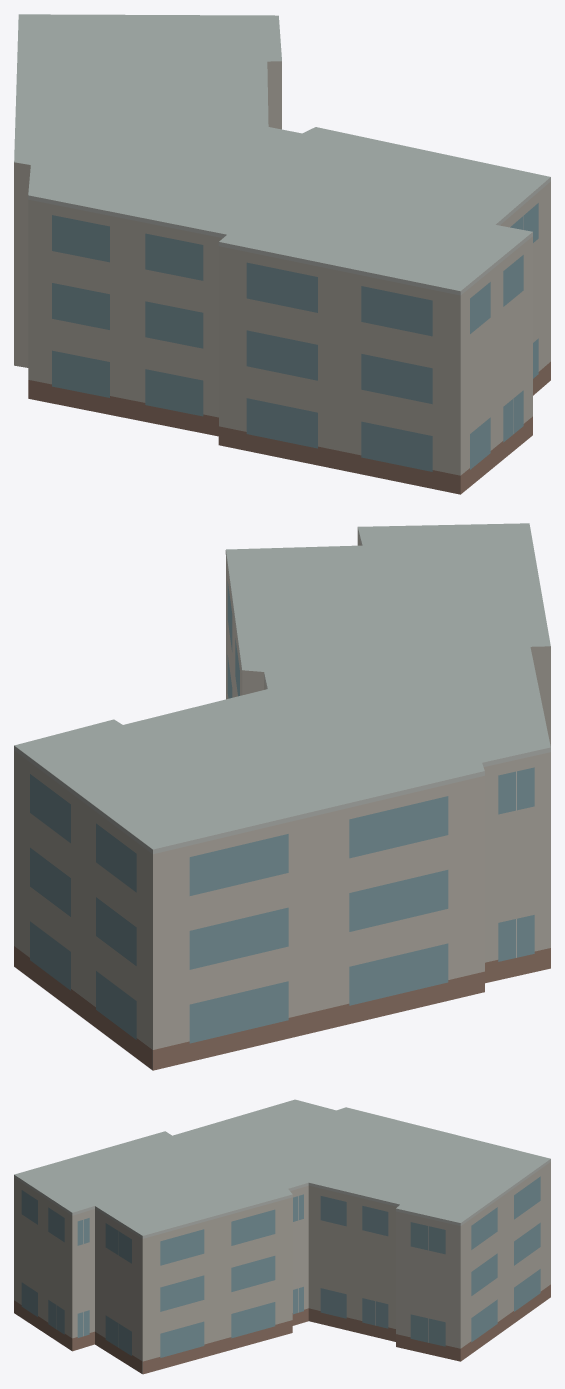
The model's file is survey-upis-32892011.glb.
3 views of the same model, one above another, from view 1: azimuth 30°, elevation 25°; view 2: azimuth 150°, elevation 25°; view 3: azimuth 270°, elevation 25° (orthographic). The views are drawn at different scales.
Parts seen in each view (by area): view 1: survey-upis-32892011.tmp; view 2: survey-upis-32892011.tmp; view 3: survey-upis-32892011.tmp.
Part boxes in pixels (x1,y1,x2,y2): survey-upis-32892011.tmp: [14, 14, 550, 494]; survey-upis-32892011.tmp: [14, 523, 550, 1070]; survey-upis-32892011.tmp: [14, 1099, 550, 1374].
Size of the model in its own units: 24.24 by 11.46 by 40.27.
